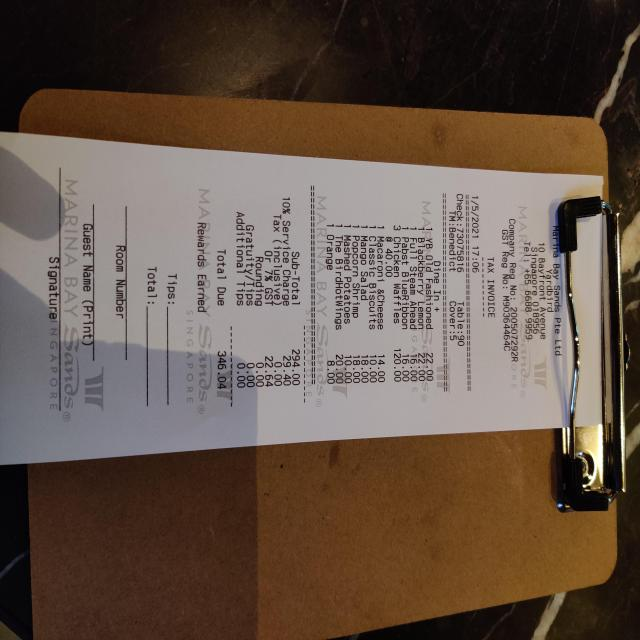bill_region: (214, 154, 435, 396)
